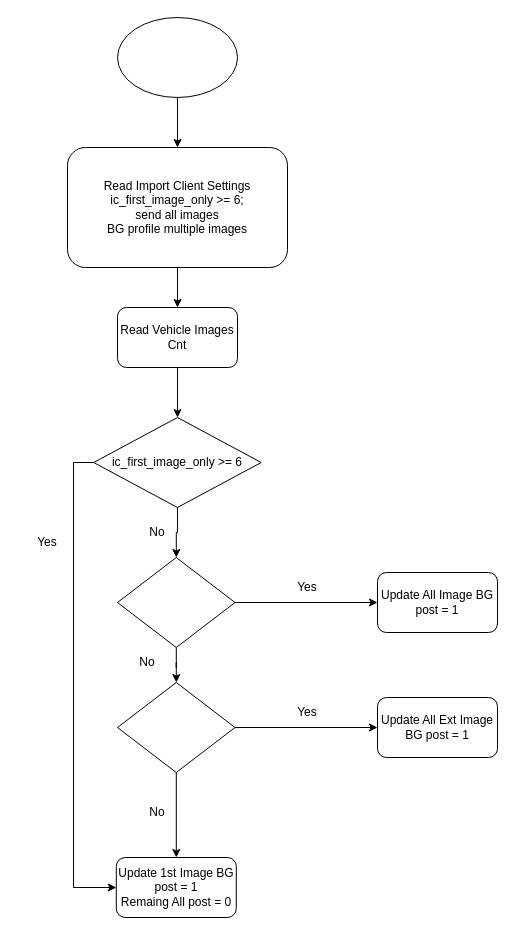
The diagram is 515 pixels wide and 935 high, and some of its shapes have lost their labels. The shapes that lost their labels are listed below. From the top down, each one's centre as x and y in pixels, then its label:
At pixel 177 57: "Import Start".
At pixel 175 602: "Send All".
At pixel 175 727: "Check Profile Multiple = 1".
